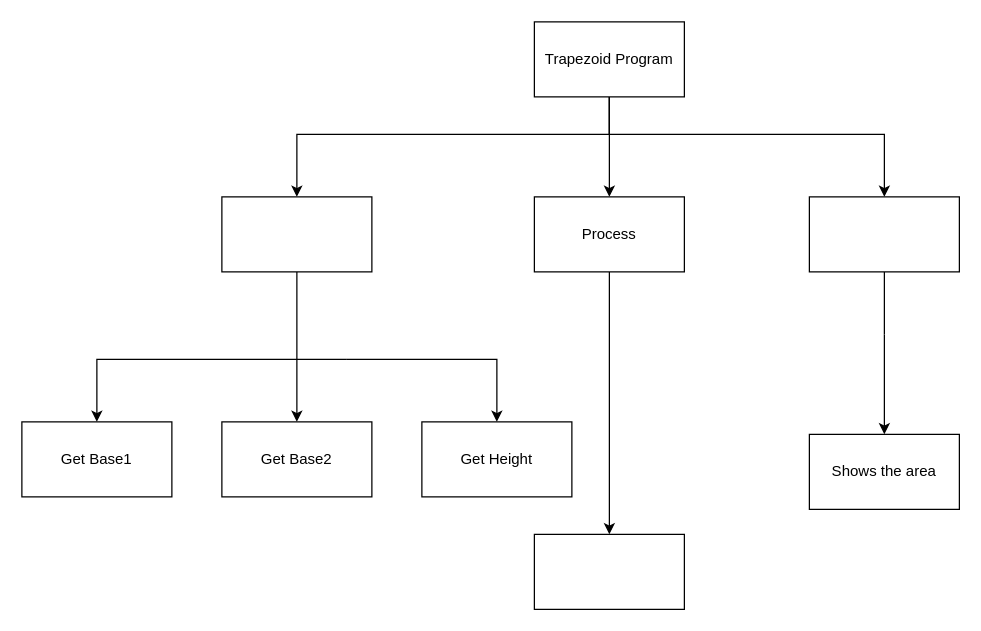
This 981x631 diagram has some shape labels left out. Here are the shapes that lost their labels. From the top down, the centre of each, then its label:
point 296,234: Input
point 883,234: Output
point 608,571: Area =a+b2h
